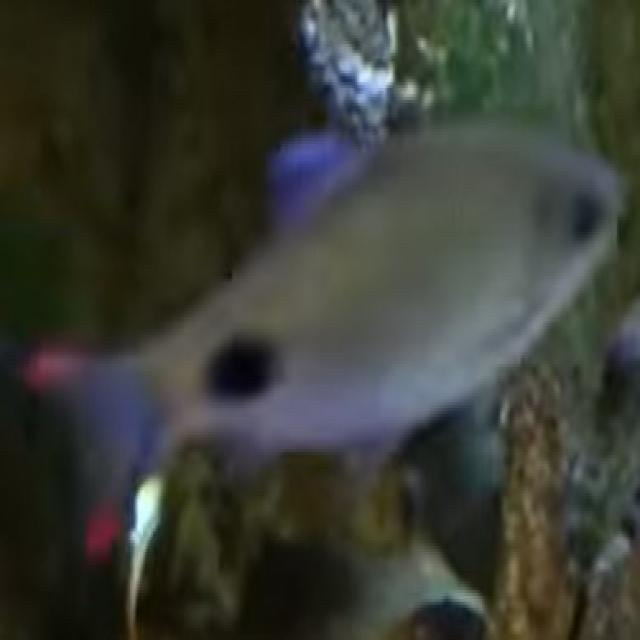Black-Spotted-Barb: (6, 47, 634, 587)
